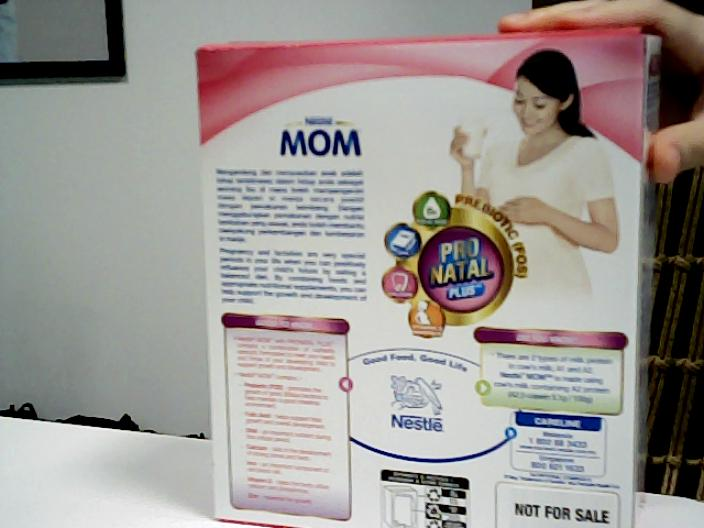MaternalMilkPowder_600-699g_Halal_NonHealthy: (214, 51, 626, 528)
